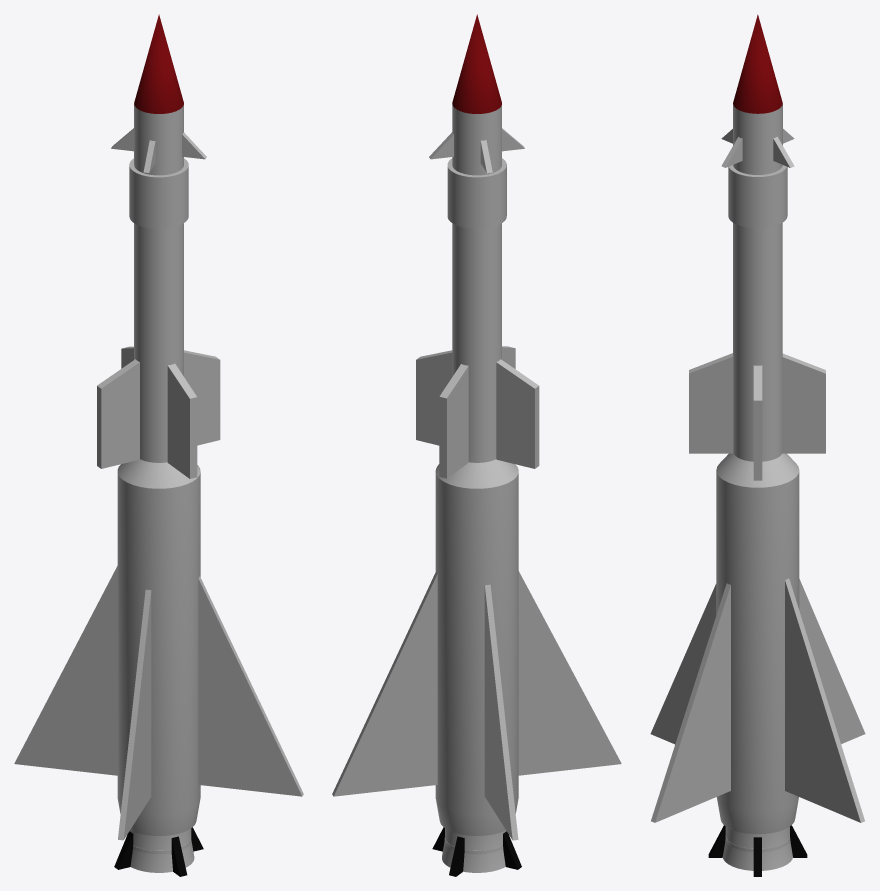
Rendered from Missile_merged.fbx.
The picture shows the model from 3 angles, left to right: view 1: azimuth 30°, elevation 25°; view 2: azimuth 150°, elevation 25°; view 3: azimuth 270°, elevation 25°; orthographic projection.
Parts seen in each view (by area): view 1: Cone; view 2: Cone; view 3: Cone.
Boxes of the visible parts, left/top/right/bottom form: Cone: left=14, top=14, right=303, bottom=876; Cone: left=332, top=14, right=621, bottom=876; Cone: left=650, top=14, right=865, bottom=876.
Size of the model in its own units: 41.4 by 179 by 41.44.
